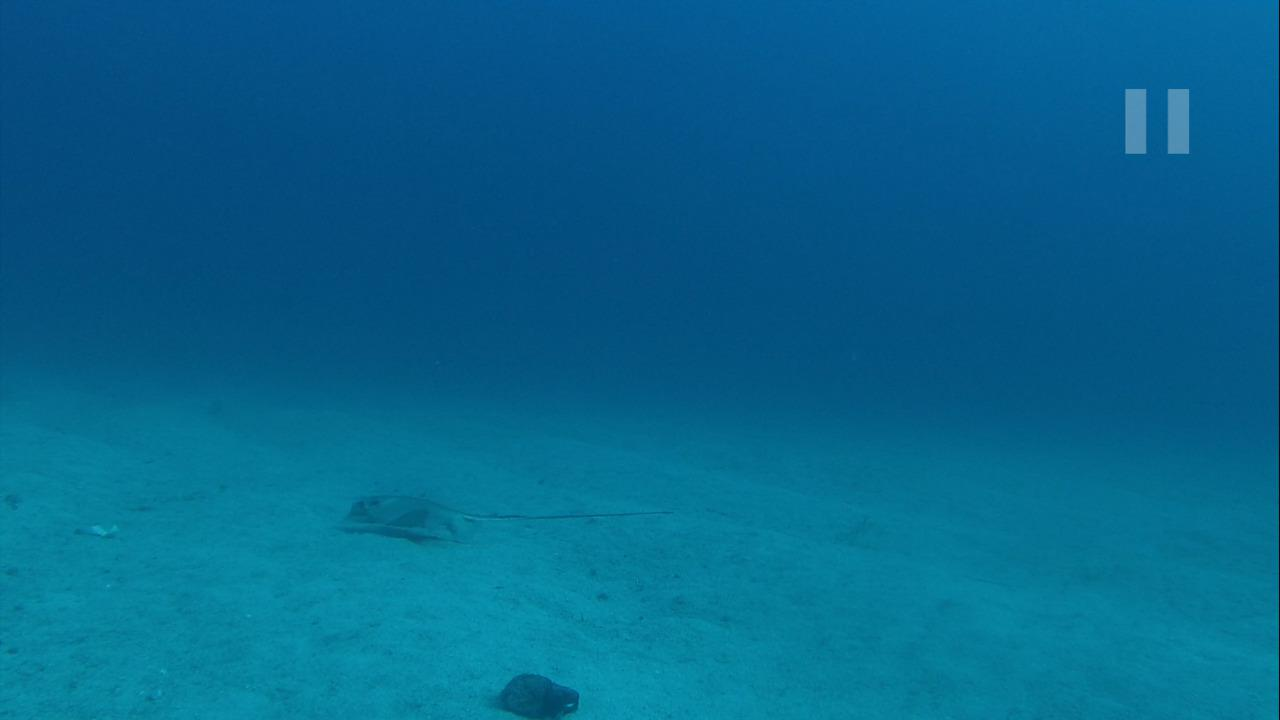myliobatis: (326, 485, 677, 541)
